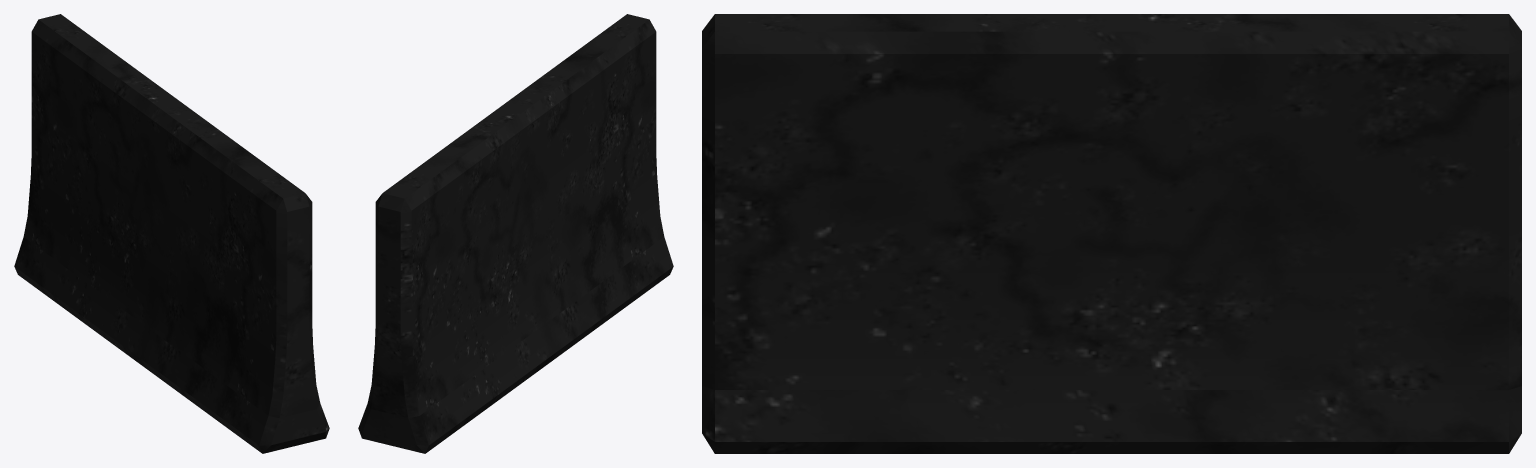
Rendered from Barricade black taller.fbx.
3 views of the same model, side by side, from view 1: azimuth 30°, elevation 25°; view 2: azimuth 150°, elevation 25°; view 3: azimuth 270°, elevation 25° (orthographic). The views are drawn at different scales.
Visible parts, largest first — view 1: Cube; view 2: Cube; view 3: Cube.
Boxes of the visible parts, bbox=[...] form: Cube: bbox=[14, 14, 329, 453]; Cube: bbox=[358, 14, 673, 453]; Cube: bbox=[702, 14, 1521, 453].
Bounding box in the file's own units: 82.98 × 281 × 514.
